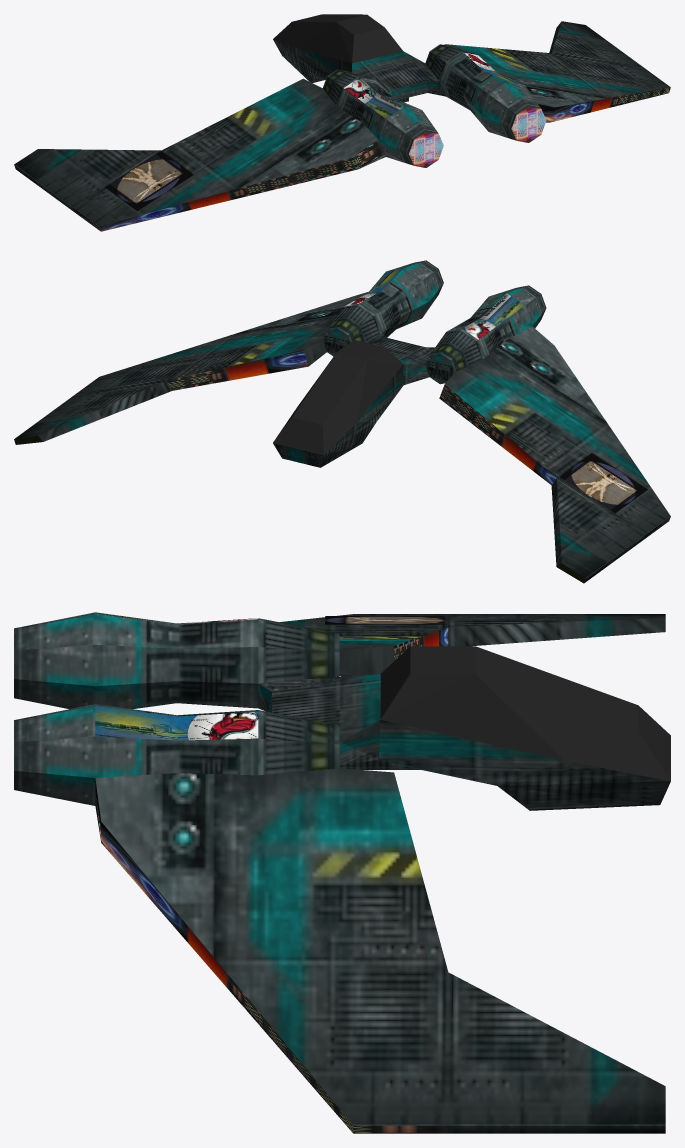
3 renders of one model, top to bottom at view 1: azimuth 30°, elevation 25°; view 2: azimuth 150°, elevation 25°; view 3: azimuth 270°, elevation 25°, orthographic. The views are drawn at different scales.
Visible parts, largest first — view 1: WingB01, WingA01, DueseA01, WingB02, Glas01, DueseB01, WingB03, Con01, WingB04, WingA02, B_Police, WingA03 (+4 smaller); view 2: WingB01, WingA01, Glas01, WingB02, DueseA01, DueseB01, WingA02, WingB04, B_Police, WingA03, WingB03, Con01 (+1 smaller); view 3: WingA01, DueseB01, Glas01, WingA02, DueseA01, B_Police, Con01, WingB02, WingA03, DueseA02, WingB01, WingB04.
Part boxes in pixels (x1,y1,x2,y2): WingB01: [73, 78, 378, 226]; WingA01: [444, 44, 670, 107]; DueseA01: [425, 44, 540, 140]; WingB02: [14, 149, 160, 212]; Glas01: [273, 14, 402, 63]; DueseB01: [322, 69, 438, 165]; WingB03: [73, 140, 385, 231]; Con01: [352, 51, 445, 102]; WingB04: [105, 151, 193, 211]; WingA02: [549, 21, 644, 68]; B_Police: [273, 39, 351, 82]; WingA03: [538, 87, 670, 122]; WingB01: [445, 326, 670, 534]; WingA01: [74, 292, 367, 395]; Glas01: [273, 340, 402, 455]; WingB02: [551, 478, 644, 583]; DueseA01: [322, 260, 443, 356]; DueseB01: [425, 285, 546, 384]; WingA02: [15, 380, 171, 441]; WingB04: [559, 453, 647, 513]; B_Police: [273, 364, 403, 467]; WingA03: [167, 350, 308, 390]; WingB03: [439, 384, 670, 539]; Con01: [364, 333, 434, 384]; WingA01: [95, 768, 448, 1125]; DueseB01: [14, 612, 339, 709]; Glas01: [380, 646, 670, 781]; WingA02: [448, 972, 665, 1133]; DueseA01: [14, 704, 339, 805]; B_Police: [379, 720, 670, 810]; Con01: [258, 674, 420, 769]; WingB02: [448, 614, 665, 646]; WingA03: [95, 778, 448, 1133]; DueseA02: [95, 706, 258, 740]; WingB01: [279, 614, 448, 676]; WingB04: [324, 616, 444, 624].
Size of the model in its own units: 48.98 by 9.8 by 26.59.
7 materials, 6 textured.
